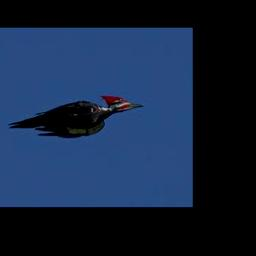Woodpecker: (8, 95, 144, 137)
